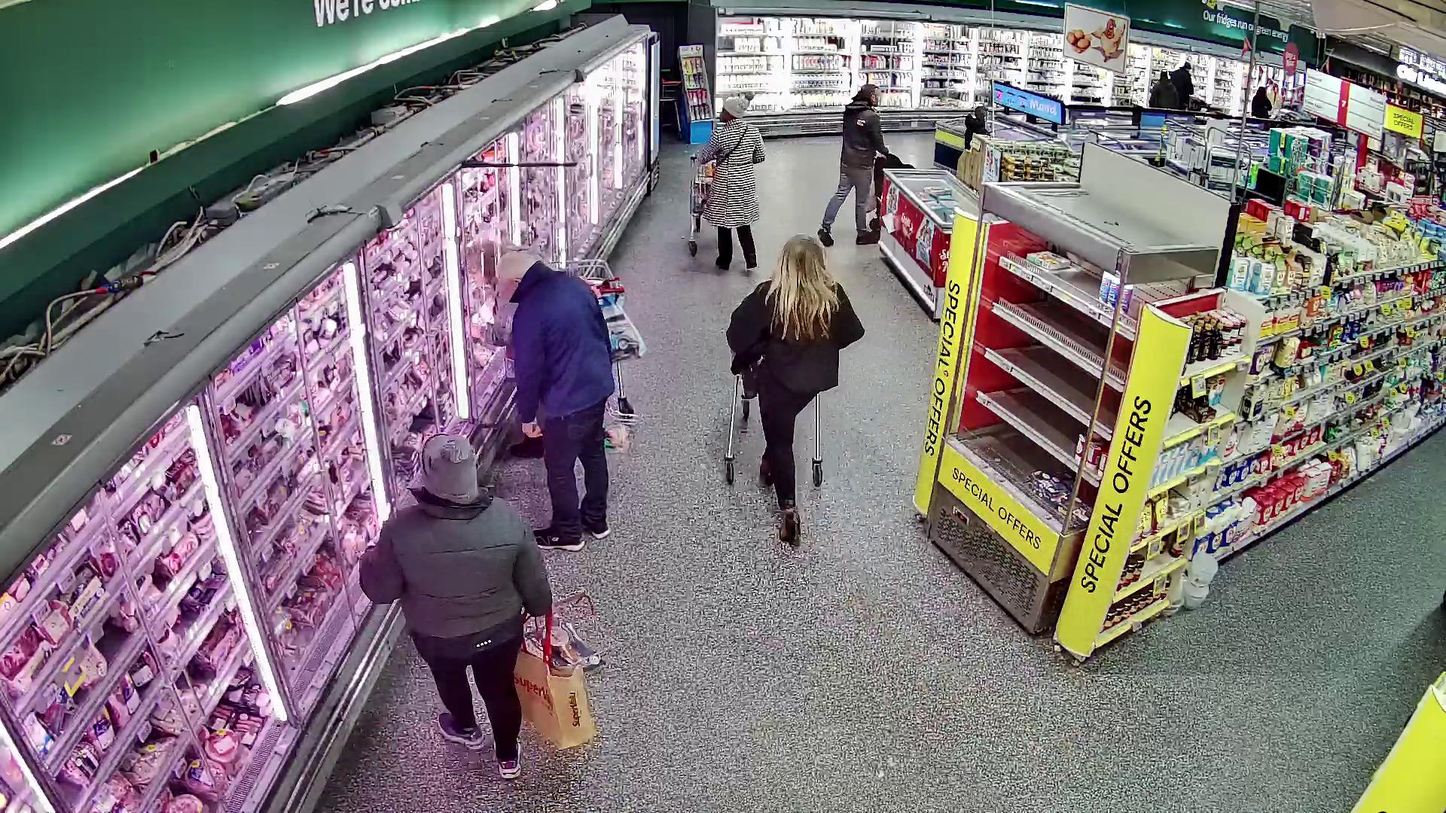filled-basket: (522, 594, 618, 688), (596, 407, 638, 453)
filled-shopping-bags: (512, 645, 598, 752)
filled-trolly: (687, 150, 718, 258)
person: (359, 435, 552, 778), (494, 253, 615, 552), (700, 91, 766, 271)
person-with-basket-trolly-and-shopping-bag: (357, 434, 618, 782)
person-with-filled-basket-trolly: (494, 253, 637, 553), (687, 89, 766, 266)
